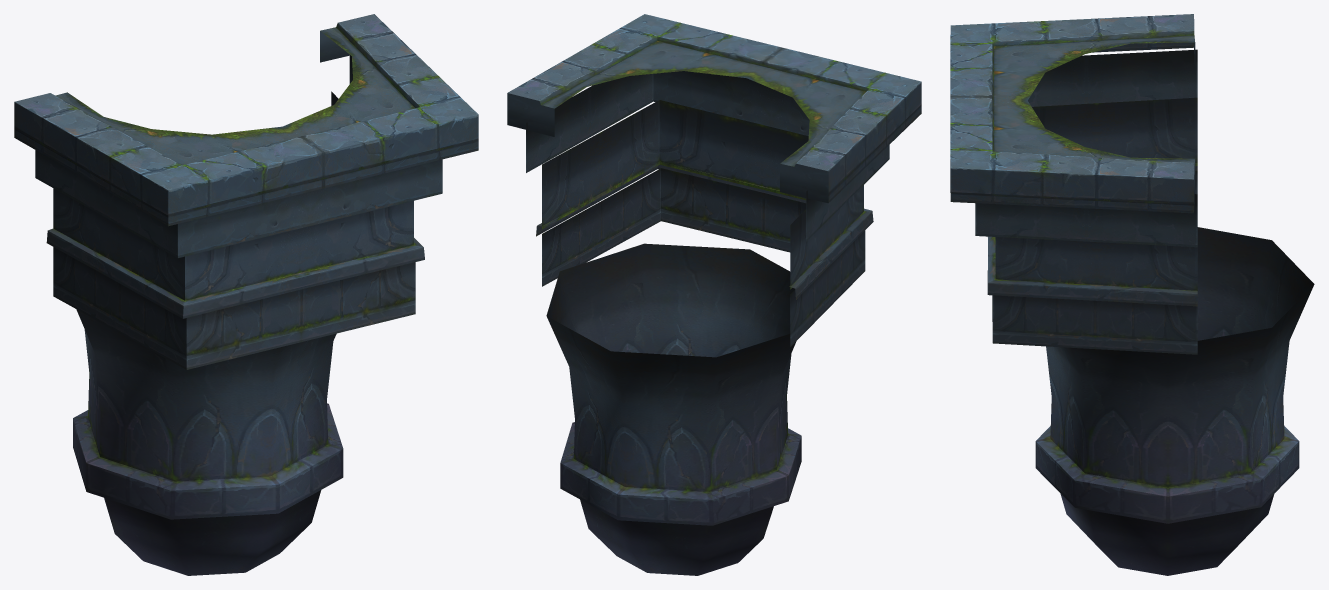
The model's file is fb_tys_zj_02_c.FBX.
3 views of the same model, side by side, from view 1: azimuth 30°, elevation 25°; view 2: azimuth 150°, elevation 25°; view 3: azimuth 270°, elevation 25° (orthographic). The views are drawn at different scales.
Visible parts, largest first — view 1: fb_tys_zj_02_c; view 2: fb_tys_zj_02_c; view 3: fb_tys_zj_02_c.
Part boxes in pixels (x1,y1,x2,y2): fb_tys_zj_02_c: (14,14,478,575); fb_tys_zj_02_c: (507,14,921,575); fb_tys_zj_02_c: (950,14,1314,575).
Bounding box in the file's own units: 1375 × 1813 × 1277.
